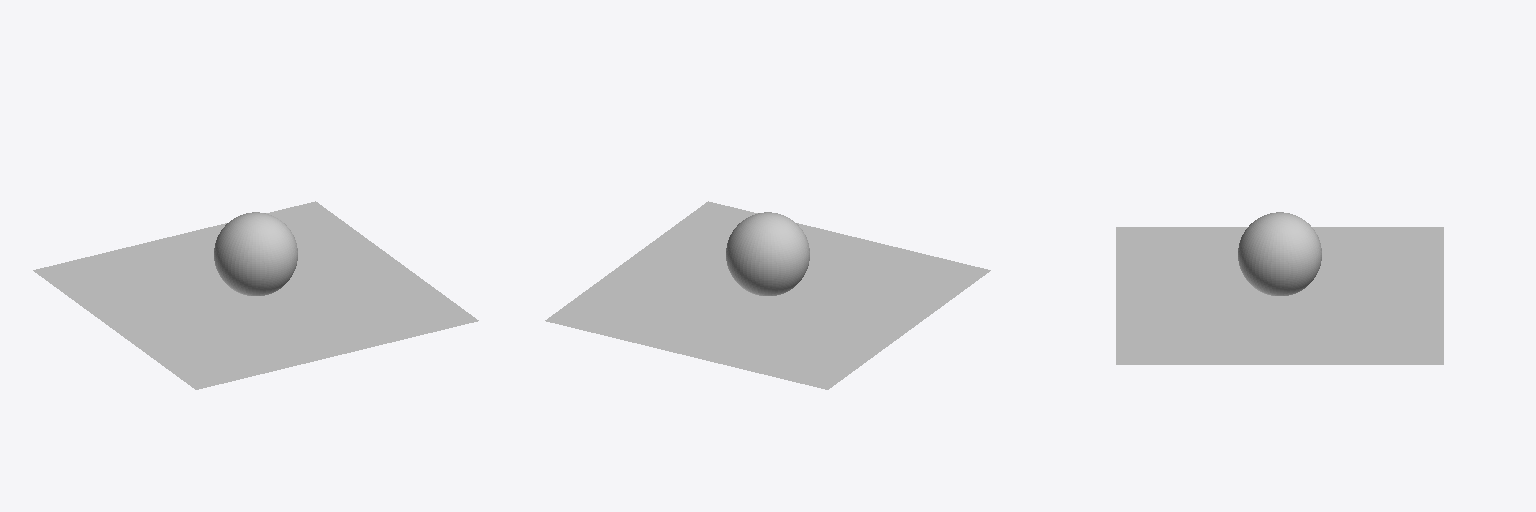
File: sphere-on-plane-heavy.obj
The picture shows the model from 3 angles: view 1: azimuth 30°, elevation 25°; view 2: azimuth 150°, elevation 25°; view 3: azimuth 270°, elevation 25°; orthographic projection.
Parts seen in each view (by area): view 1: pPlane1, pSphere1; view 2: pPlane1, pSphere1; view 3: pPlane1, pSphere1.
Boxes of the visible parts, <box> form: pPlane1: <box>33,201,478,389</box>; pSphere1: <box>214,212,297,295</box>; pPlane1: <box>545,201,990,389</box>; pSphere1: <box>726,212,809,295</box>; pPlane1: <box>1116,227,1443,364</box>; pSphere1: <box>1238,212,1321,295</box>.
Size of the model in its own units: 20 by 5.36 by 20.